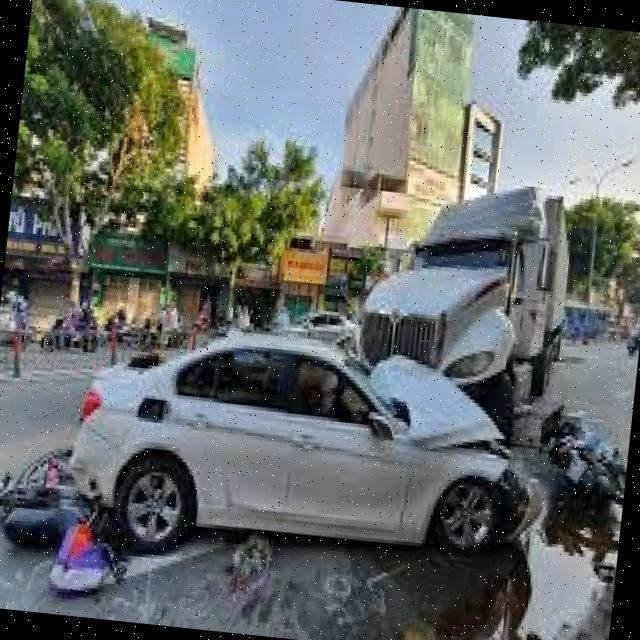accident: (339, 331, 637, 582), (0, 406, 179, 620)
